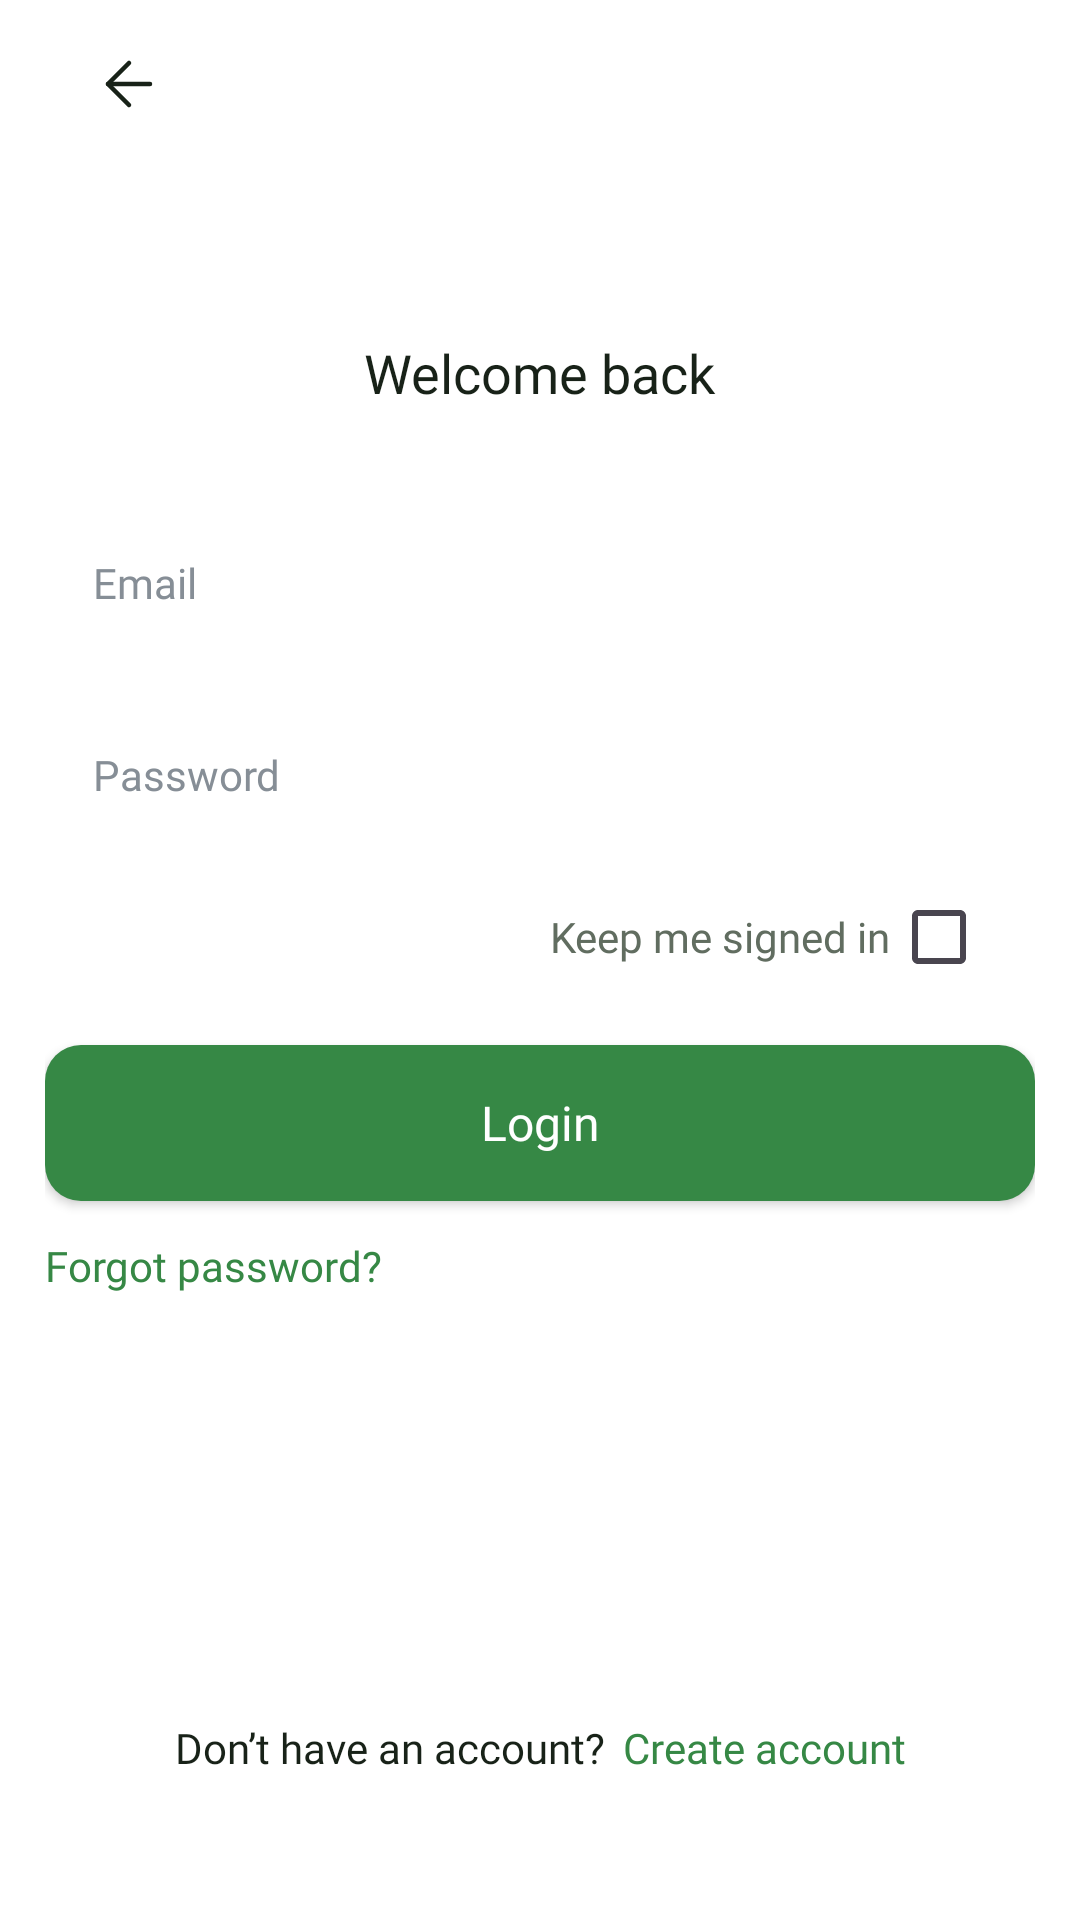

Icon click points for this 1080w x 1920h phone screenshot, format (x=x, y=y):
Back: (x=128, y=84)
